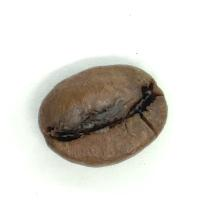NG: (52, 94, 141, 143)
